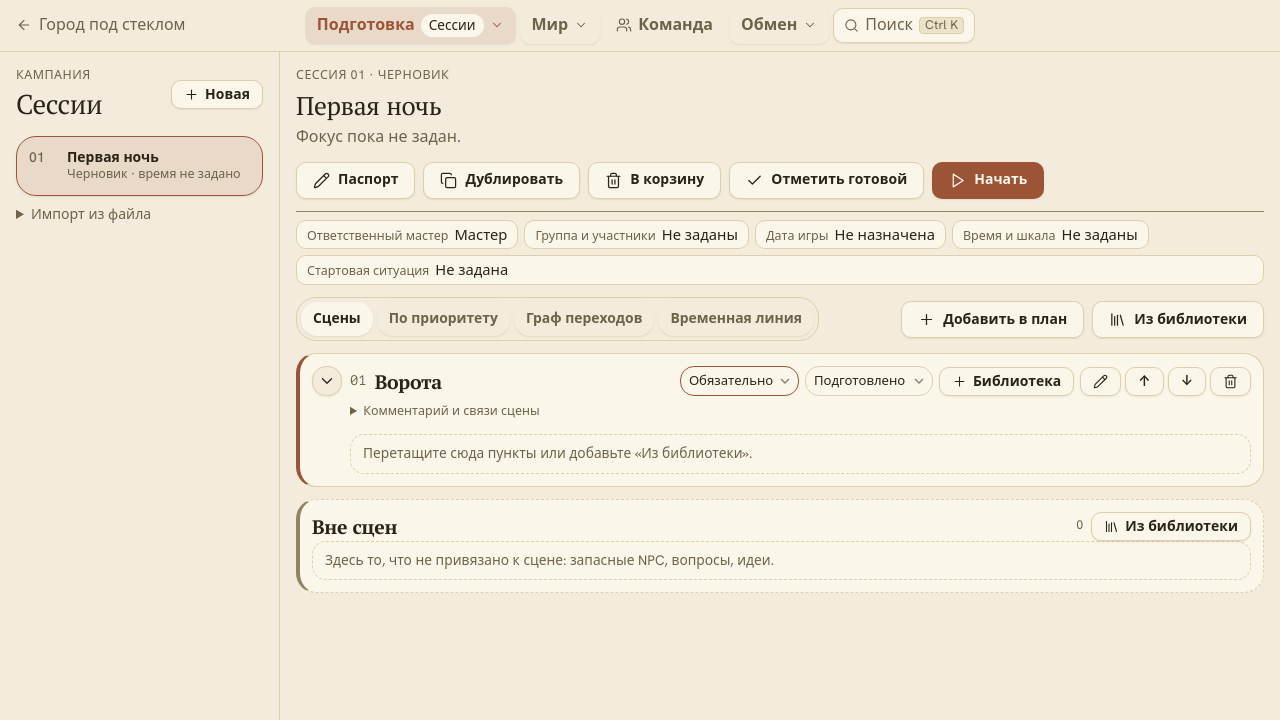
Test: session lifecycle › changes the status only with buttons: no status in the passport, «Готова» by a button, a draft asks before starting
Click the button "Паспорт" at x=356, y=180, box [296,162,415,198]
(page scrolled)
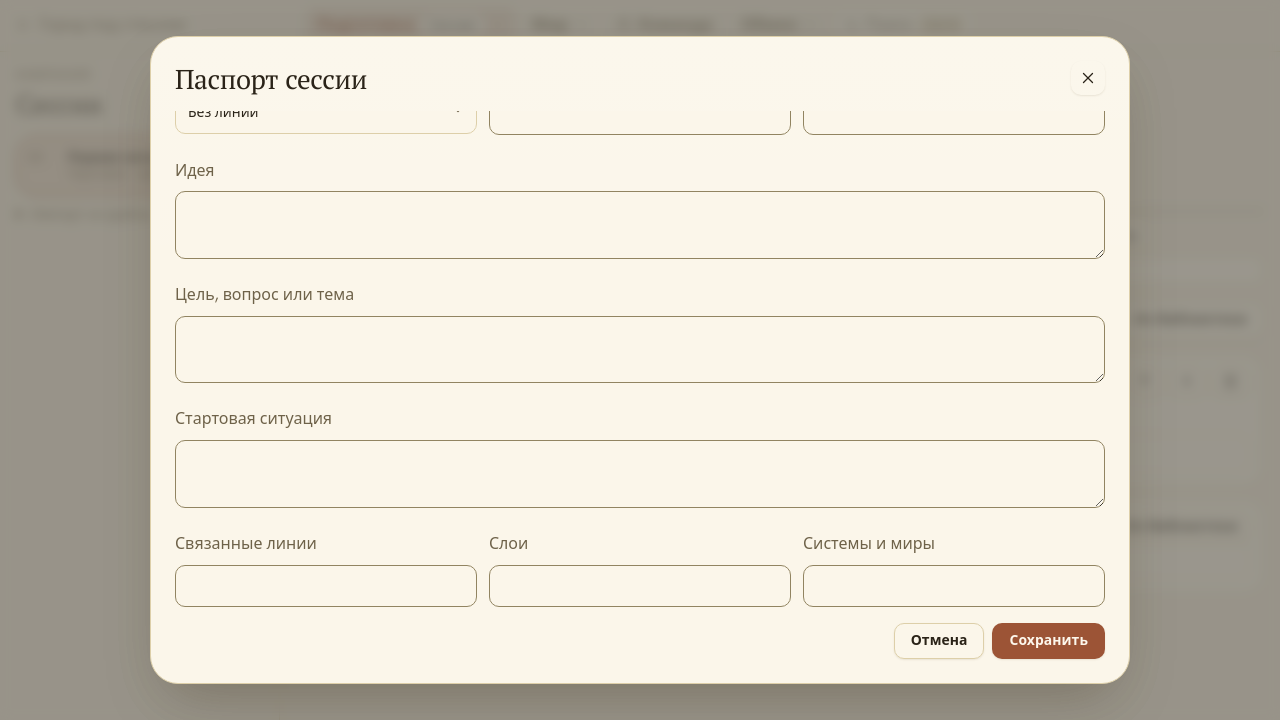
Click the button "Отмена" at x=939, y=641, box [894,623,984,659]
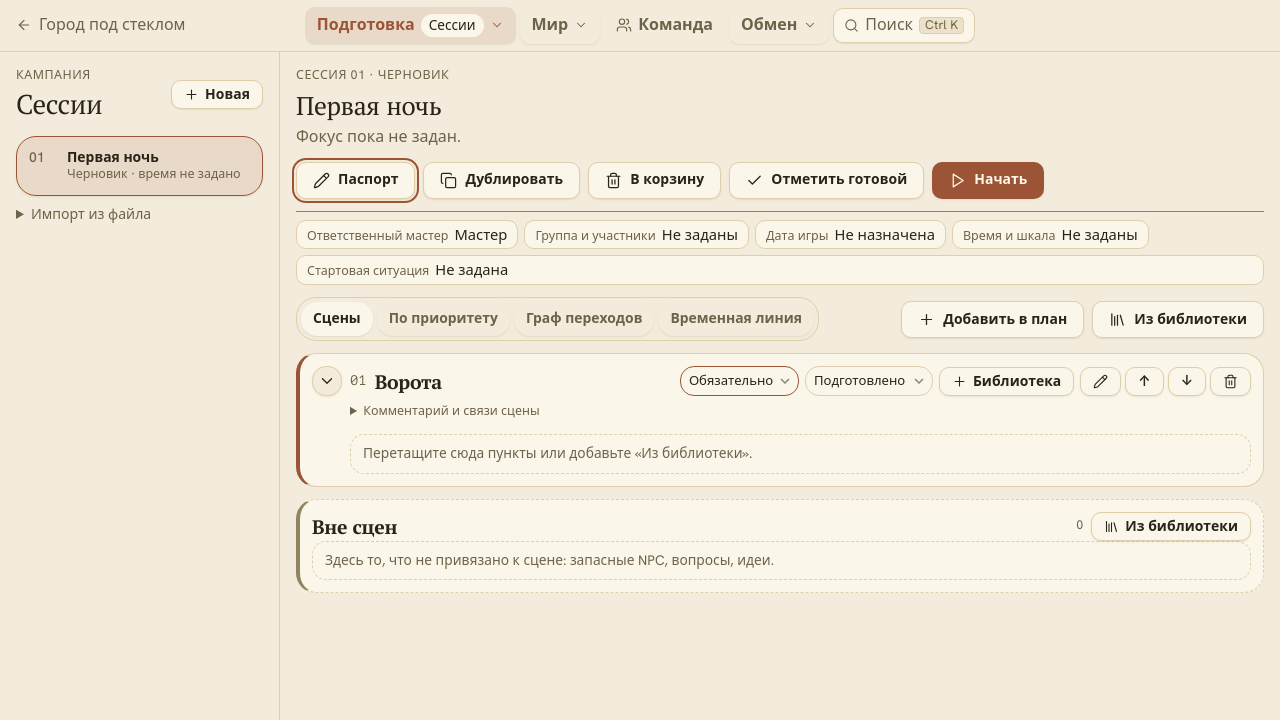
Click the button "Начать" at x=988, y=180, box [932,162,1044,198]
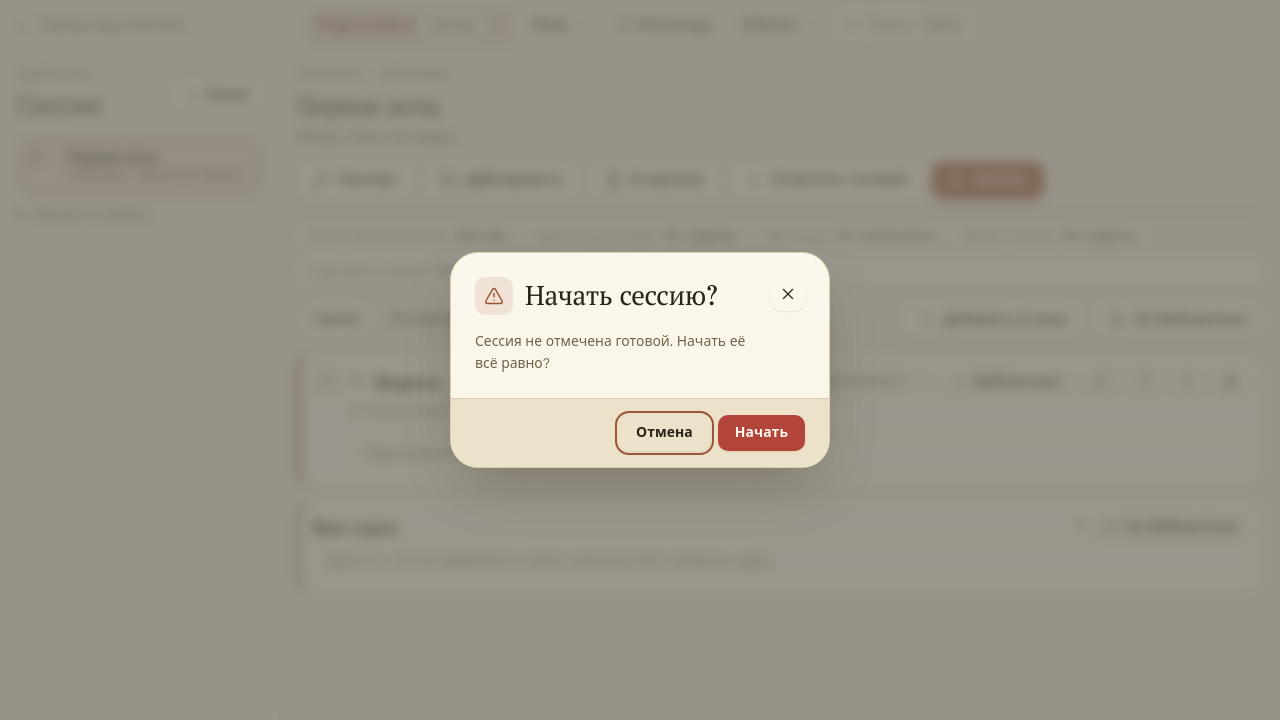
Expected: the dialog shows "не отмечена готовой", [475,332,745,372]
Click the button "Отмена" at x=664, y=433, box [619,415,710,451]
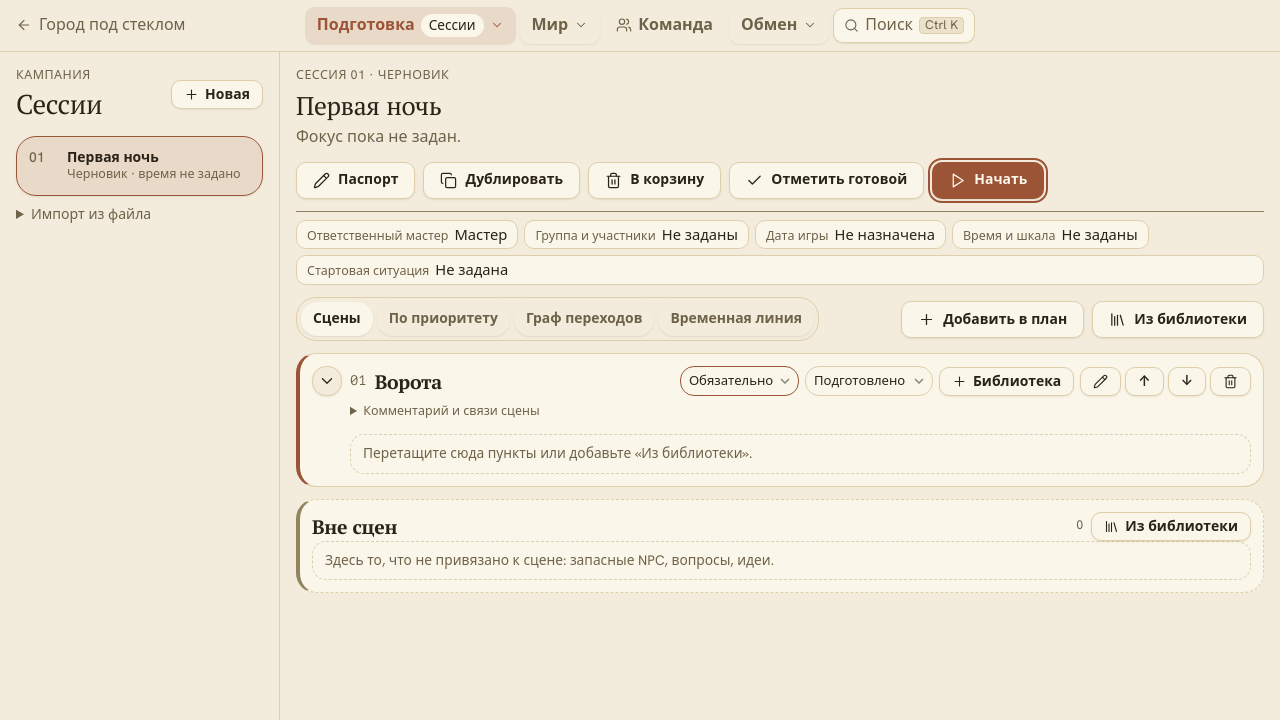
Click the button "Отметить готовой" at x=827, y=180, box [729,162,924,198]
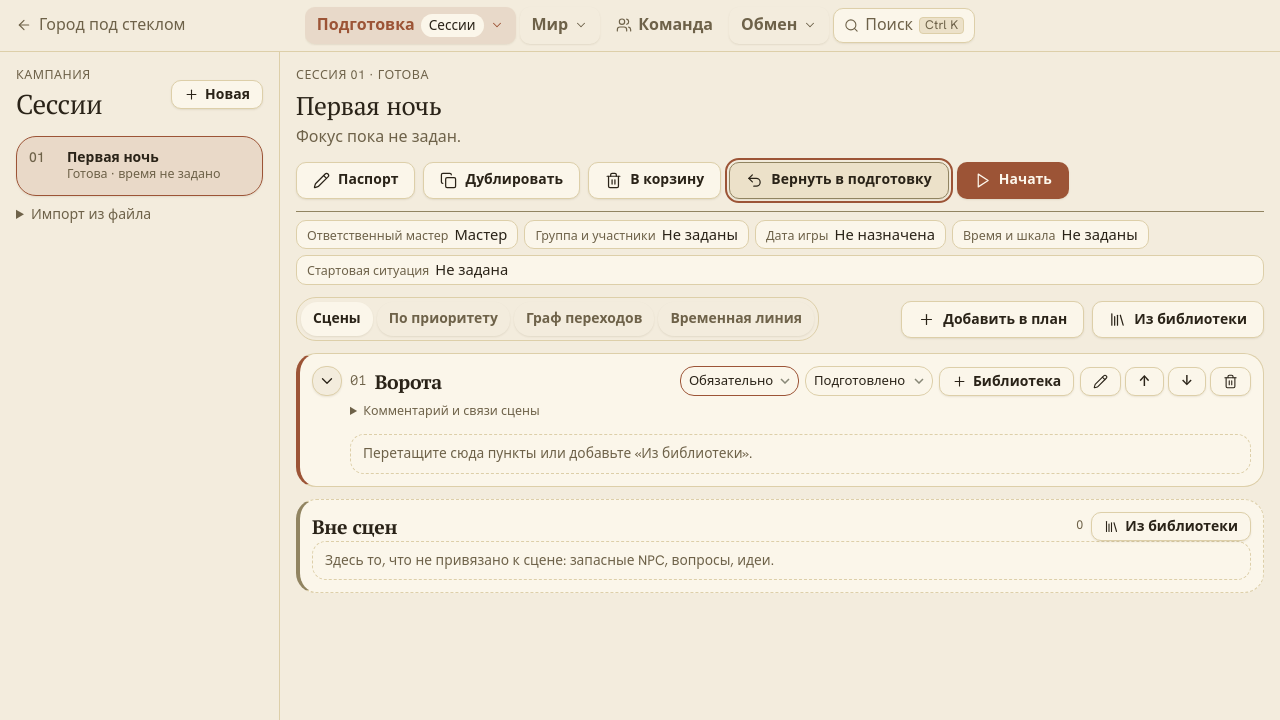
Click the button "Начать" at x=1013, y=180, box [957,162,1069,198]
(page scrolled)
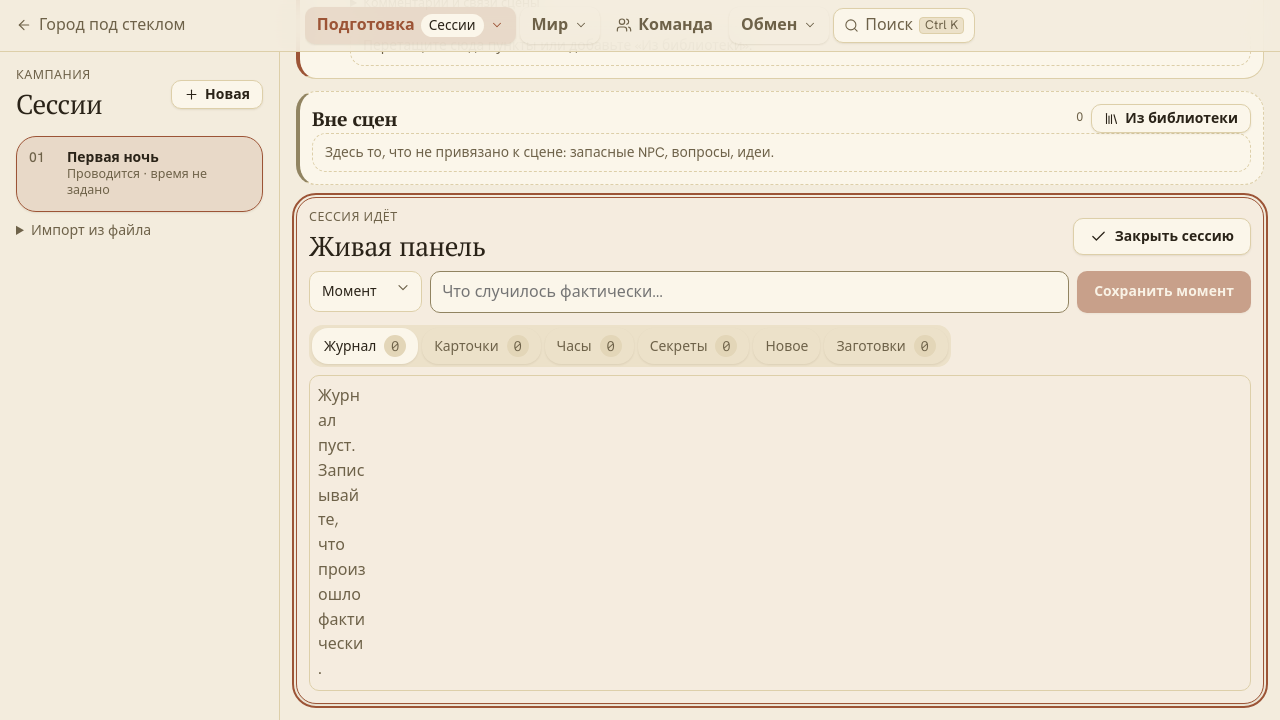
Expected: the element labelled "Живая панель" is shown, [296,197,1264,704]
